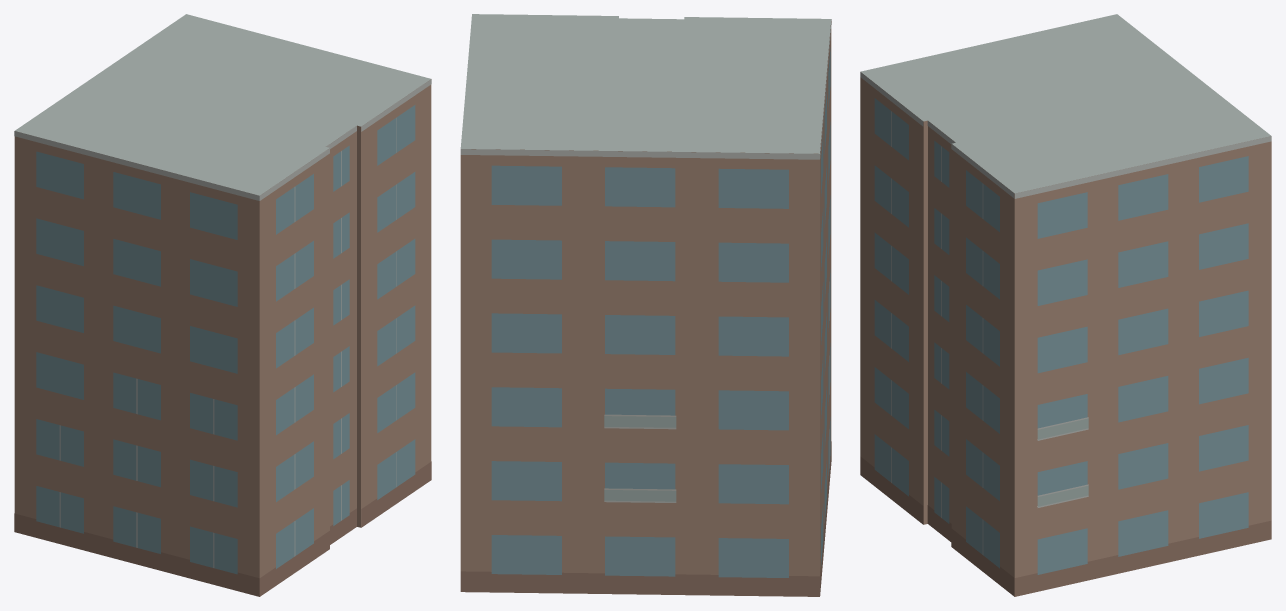
File: survey-upis-32658701.glb
3 views of the same model, side by side, from view 1: azimuth 30°, elevation 25°; view 2: azimuth 150°, elevation 25°; view 3: azimuth 270°, elevation 25° (orthographic). The views are drawn at different scales.
Visible parts, largest first — view 1: survey-upis-32658701.tmp; view 2: survey-upis-32658701.tmp; view 3: survey-upis-32658701.tmp.
Part boxes in pixels (x1,y1,x2,y2): survey-upis-32658701.tmp: (14, 14, 431, 596); survey-upis-32658701.tmp: (460, 14, 831, 596); survey-upis-32658701.tmp: (860, 14, 1271, 596).
Bounding box in the file's own units: 17.29 × 18.1 × 16.73.
